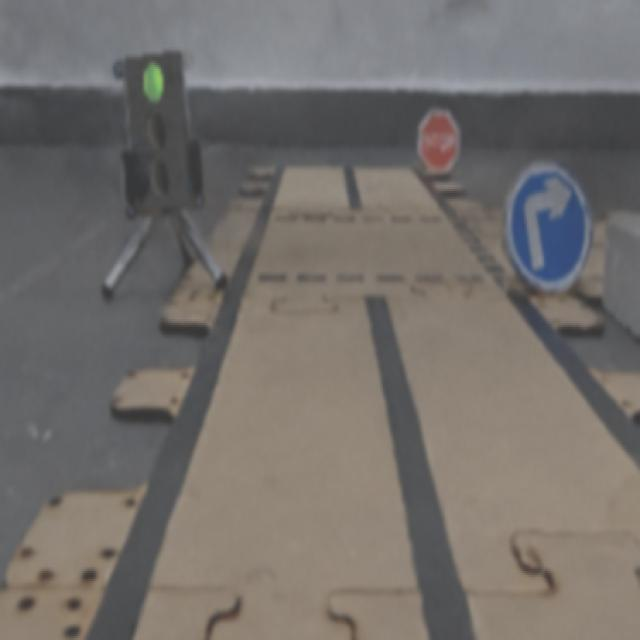RIGHT: (506, 165, 592, 288)
STOP: (418, 108, 459, 171)
